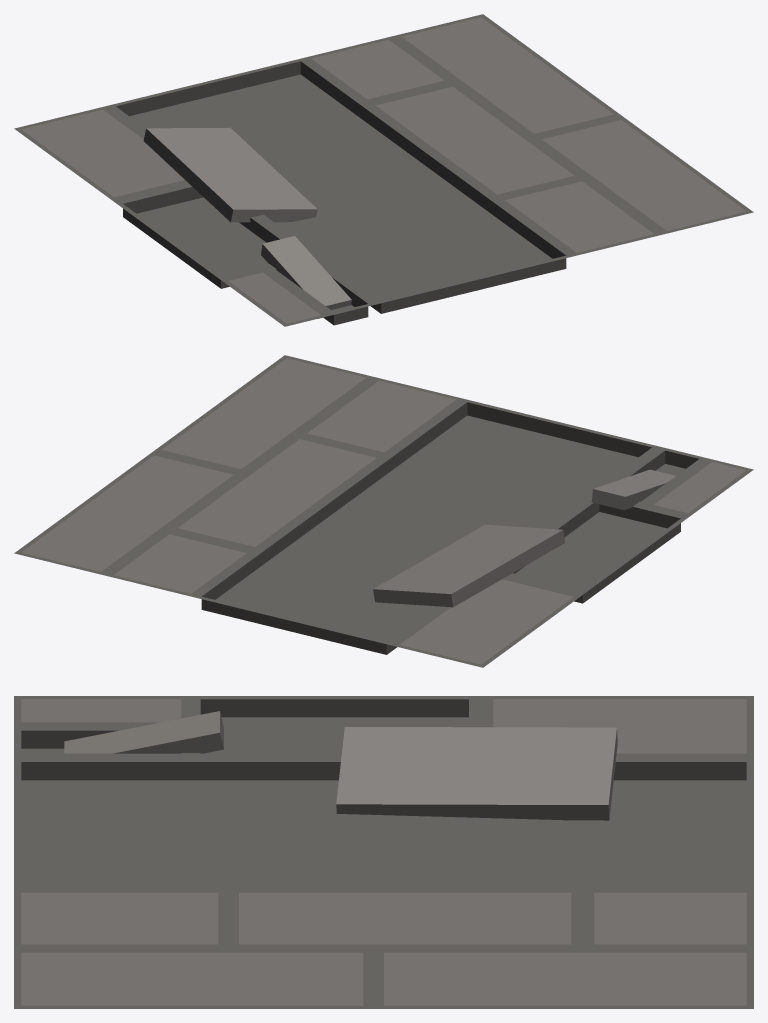
Rendered from SD_Env_Floor_Stone_Broken_04.fbx.
3 renders of one model, top to bottom at view 1: azimuth 30°, elevation 25°; view 2: azimuth 150°, elevation 25°; view 3: azimuth 270°, elevation 25°, orthographic. The views are drawn at different scales.
Parts seen in each view (by area): view 1: SD_Env_Floor_Stone_Broken_04; view 2: SD_Env_Floor_Stone_Broken_04; view 3: SD_Env_Floor_Stone_Broken_04.
Boxes of the visible parts, x1,y1,x2,y2 form: SD_Env_Floor_Stone_Broken_04: (14,14,753,326); SD_Env_Floor_Stone_Broken_04: (14,355,753,667); SD_Env_Floor_Stone_Broken_04: (14,696,753,1008).
Size of the model in its own units: 5 by 0.3728 by 5.
